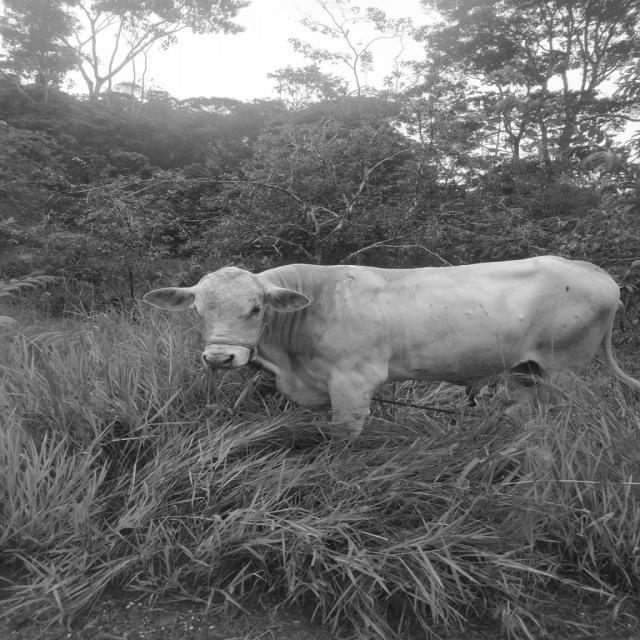cow: (145, 256, 640, 434)
